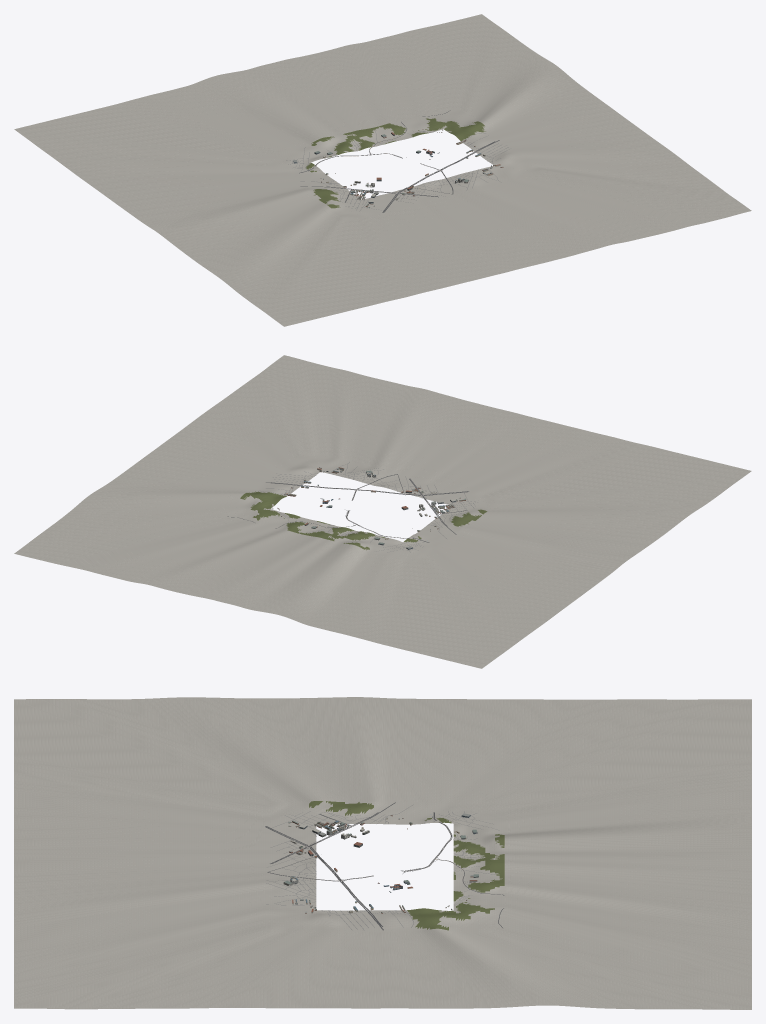
The picture shows the model from 3 angles, top to bottom: view 1: azimuth 30°, elevation 25°; view 2: azimuth 150°, elevation 25°; view 3: azimuth 270°, elevation 25°; orthographic projection. The views are drawn at different scales.
Parts seen in each view (by area): view 1: ctx-ground, ctx-streets, ctx-roads, ctx-buildings; view 2: ctx-ground, ctx-roads, ctx-streets, ctx-buildings; view 3: ctx-ground, ctx-streets, ctx-buildings, ctx-roads.
Part boxes in pixels (x1,y1,x2,y2): ctx-ground: [14, 14, 751, 326]; ctx-streets: [286, 131, 509, 211]; ctx-roads: [299, 110, 499, 212]; ctx-buildings: [293, 129, 503, 207]; ctx-ground: [14, 355, 751, 668]; ctx-roads: [227, 474, 468, 542]; ctx-streets: [261, 462, 477, 552]; ctx-buildings: [272, 467, 465, 549]; ctx-ground: [14, 697, 751, 1009]; ctx-streets: [266, 804, 499, 930]; ctx-buildings: [283, 813, 478, 913]; ctx-roads: [265, 802, 504, 930].
Bounding box in the file's own units: 7600 × 87.03 × 7600.
18 materials, 15 textured.
